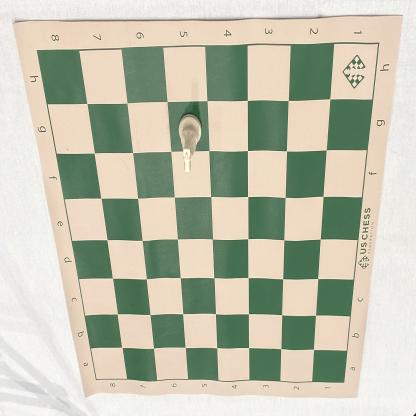white-knight: (178, 113, 202, 173)
